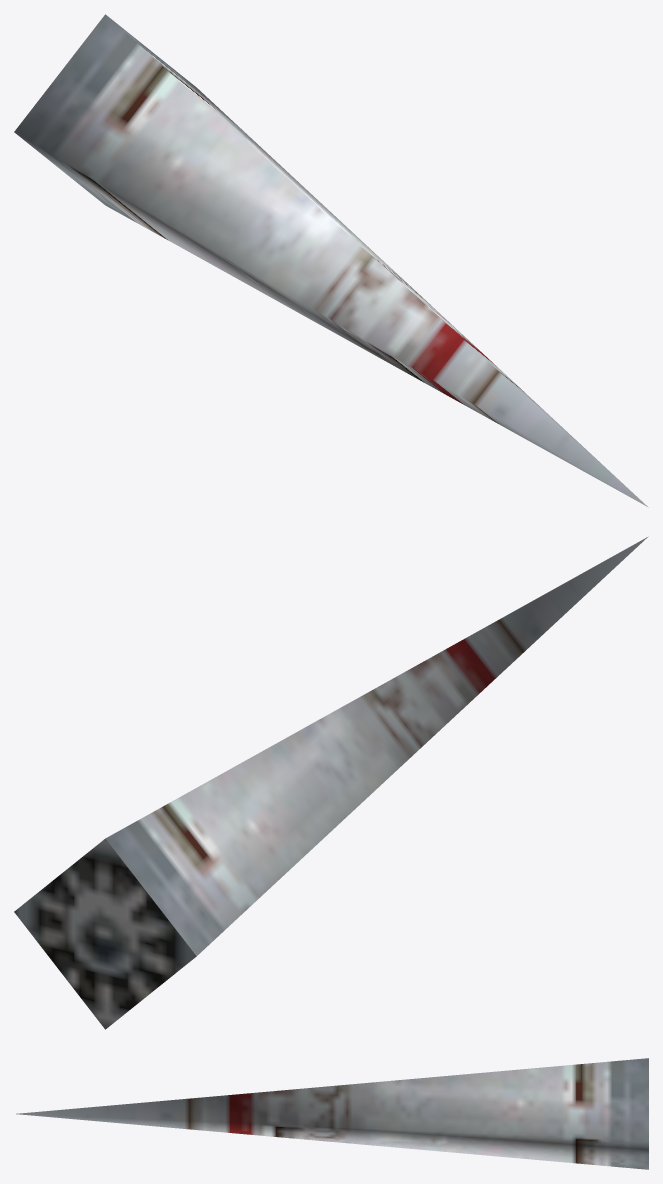
Rendered from wp_ammo_rocket_l2.fbx.
The picture shows the model from 3 angles, top to bottom: view 1: azimuth 30°, elevation 25°; view 2: azimuth 150°, elevation 25°; view 3: azimuth 270°, elevation 25°; orthographic projection. The views are drawn at different scales.
Visible parts, largest first — view 1: mesh_node; view 2: mesh_node; view 3: mesh_node.
Part boxes in pixels (<box>): mesh_node: <box>14,14,648,507</box>; mesh_node: <box>14,536,648,1029</box>; mesh_node: <box>16,1058,648,1169</box>.
Size of the model in its own units: 0.0317 by 0.0317 by 0.1634.
